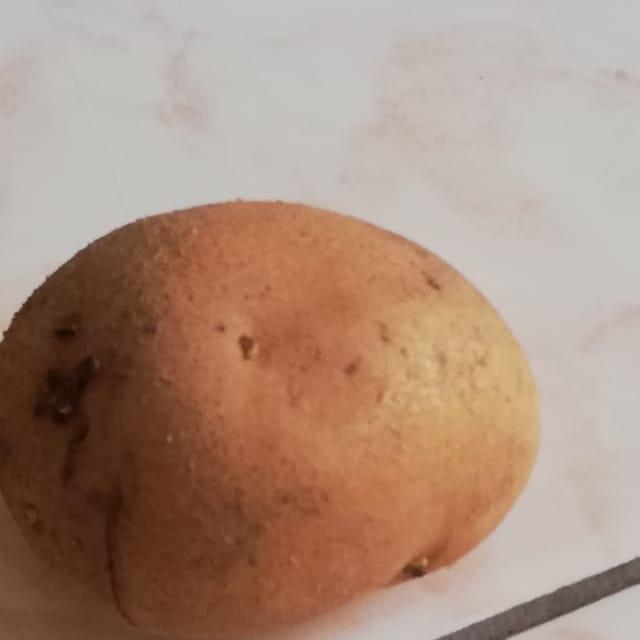potato: (0, 195, 565, 640)
